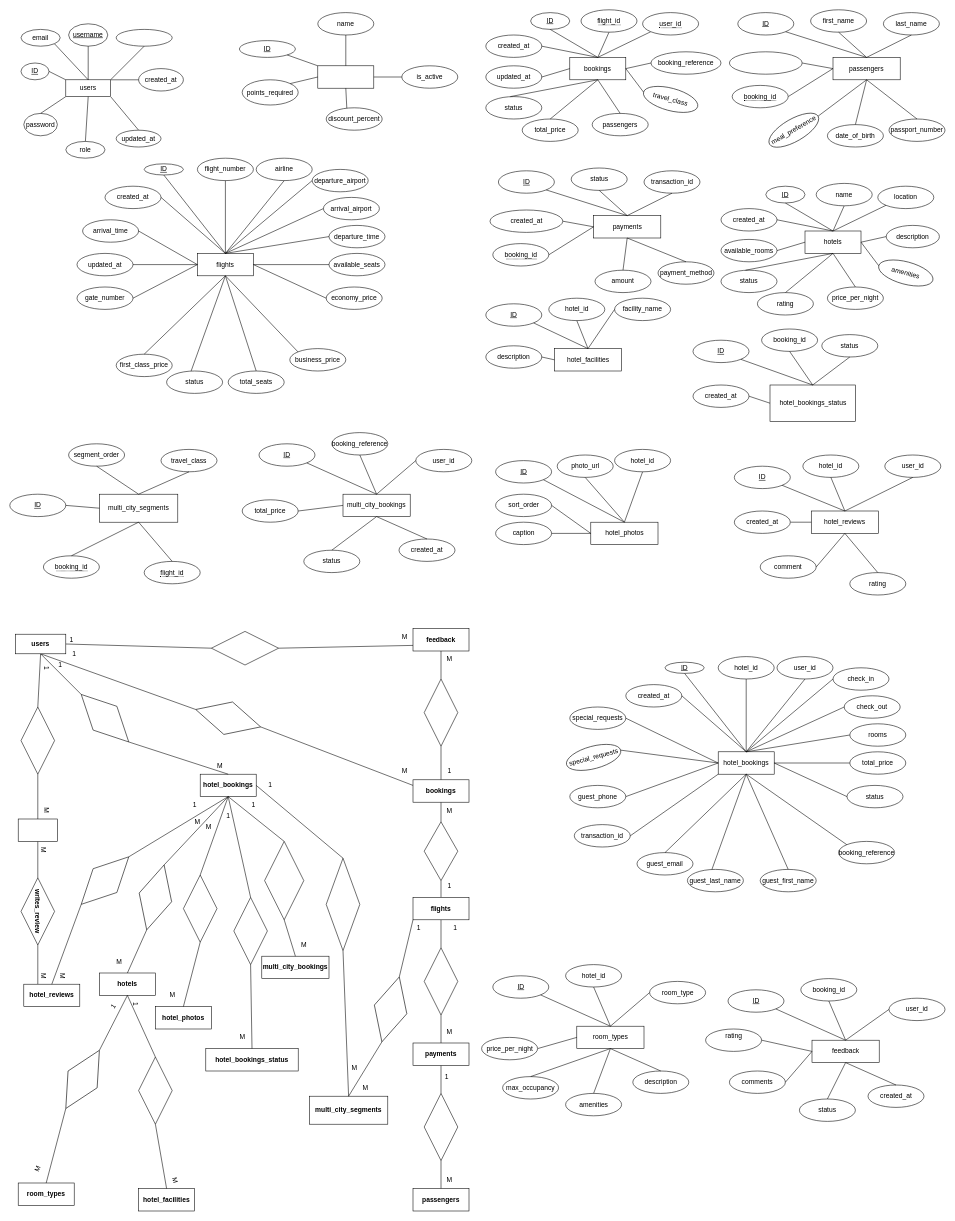
This 955x1221 diagram has some shape labels left out. Each missing label, with the centre of its shape:
belongs_to: the point at 155,897
bill: the point at 441,1127
books_hotel: the point at 105,718
contains_segment: the point at 343,904
earns_rewards: the point at 37,740
flight_segments: the point at 390,1009
gives_feedback: the point at 245,648
has_status: the point at 250,931
includes_flight: the point at 441,851
includes_photo: the point at 200,908
loyalty_ rewards: the point at 37,829
loyalty_points: the point at 144,37
loyalty_rewards: the point at 345,76
makes_booking: the point at 228,718
needs: the point at 441,981
offers_room_type: the point at 82,1079
part_of_multi_ city_booking: the point at 284,880
provides_facility: the point at 155,1090
review_1: the point at 441,712
special_assistance: the point at 765,62
writes: the point at 105,880
